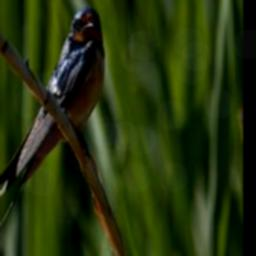Swallow: (0, 4, 105, 245)
